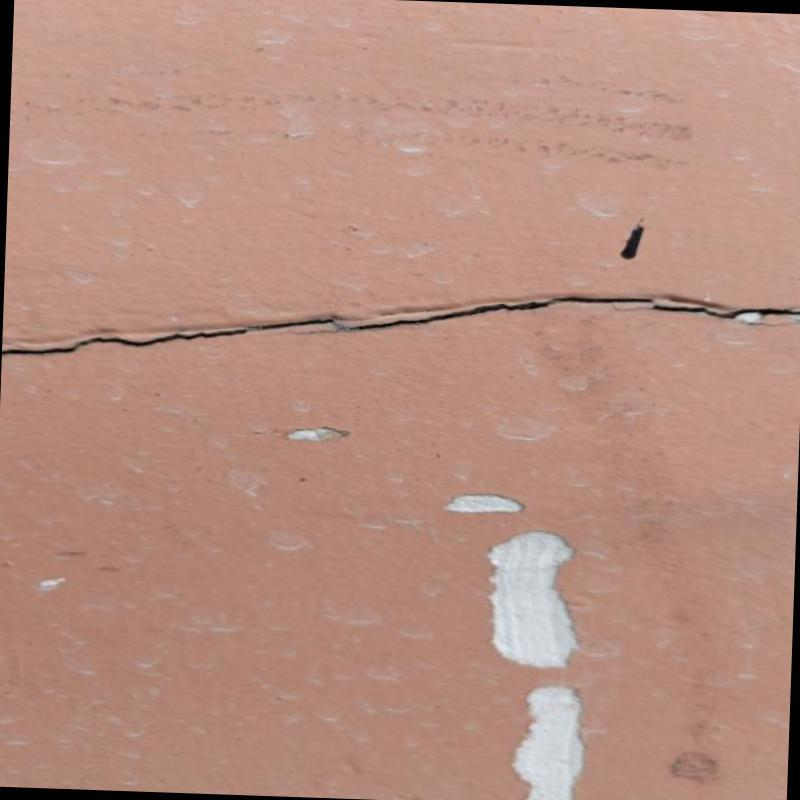pothole: (1, 295, 800, 354)
